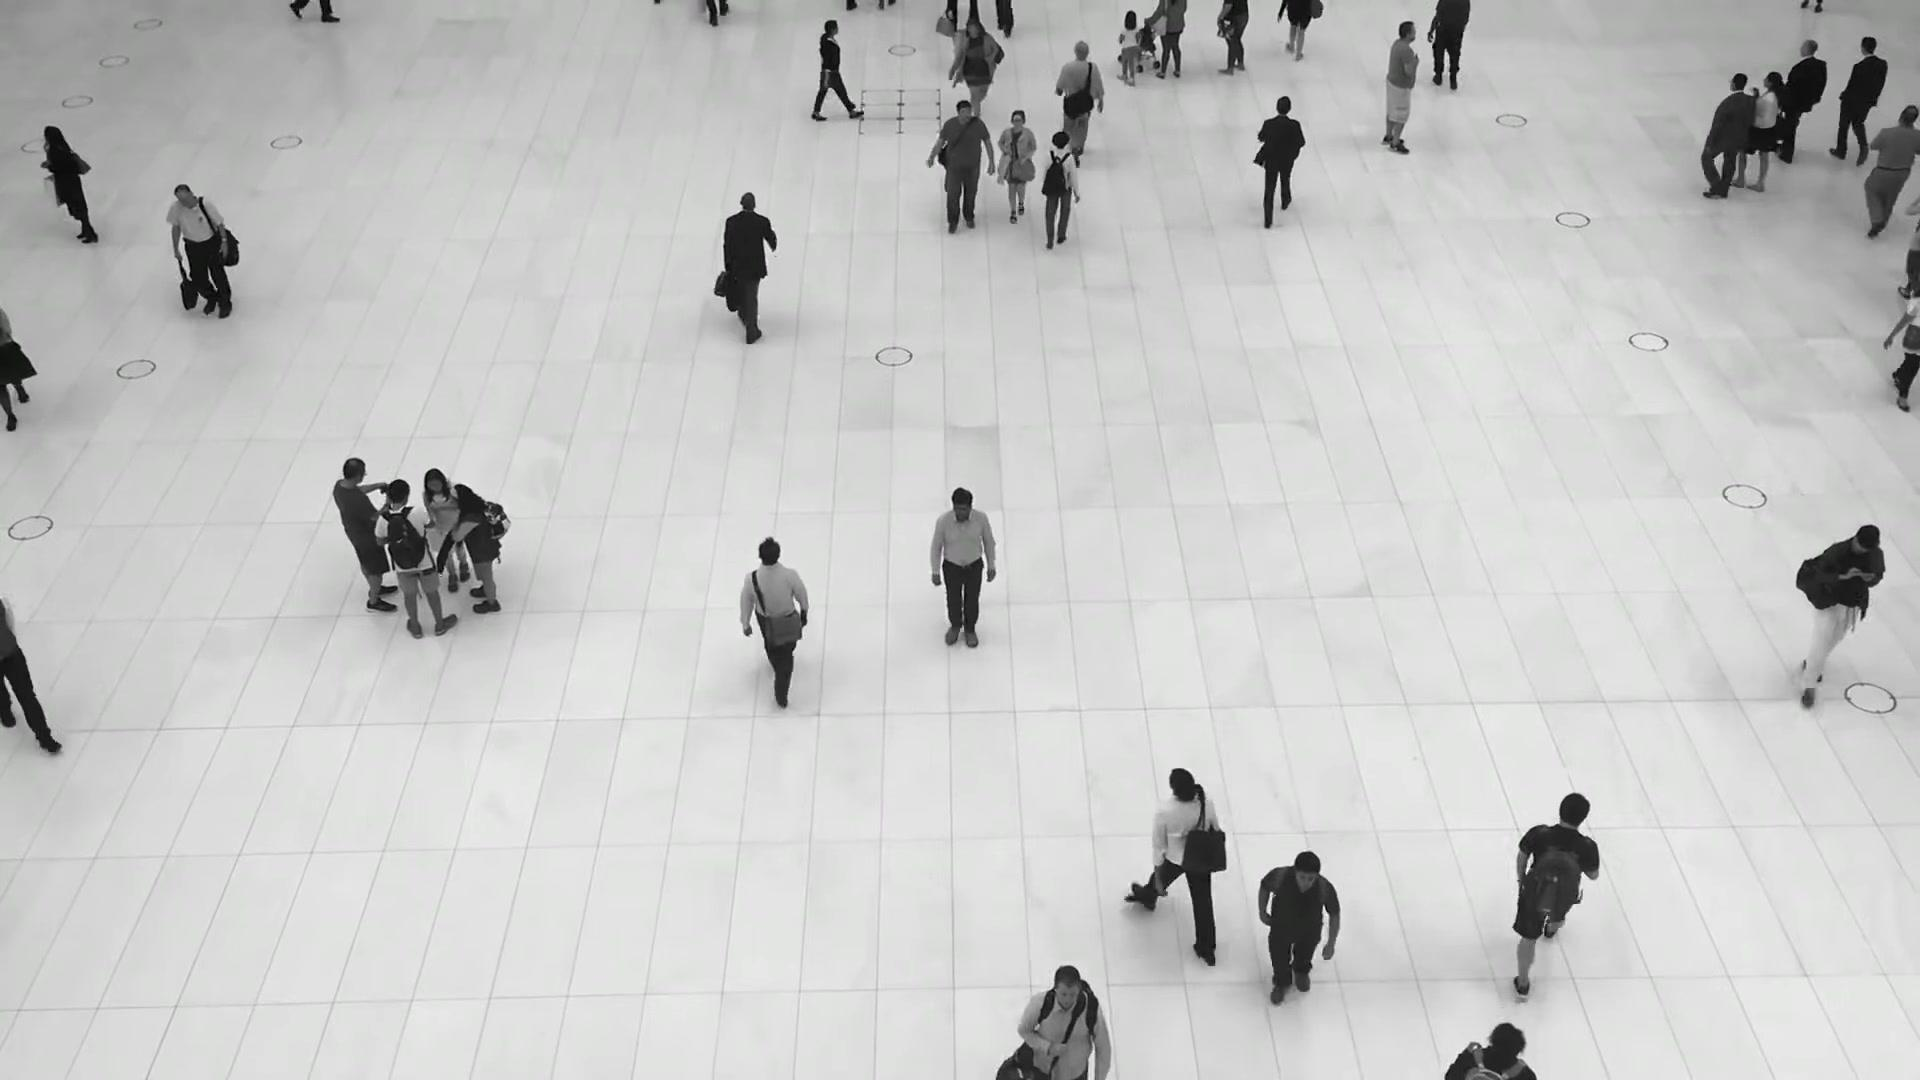person: (1510, 789, 1602, 984), (1791, 523, 1885, 699), (1143, 763, 1225, 949), (376, 477, 460, 635), (1257, 849, 1341, 1005), (737, 537, 812, 709), (926, 486, 997, 663), (1015, 967, 1111, 1080), (333, 457, 399, 610), (164, 185, 233, 326), (929, 99, 994, 235), (720, 191, 779, 342), (1689, 76, 1756, 206), (1827, 37, 1889, 171), (1860, 104, 1920, 240), (1252, 93, 1307, 225), (41, 124, 99, 244), (449, 483, 501, 615), (1052, 41, 1104, 170), (421, 468, 469, 593), (1736, 71, 1784, 195), (1782, 38, 1827, 162), (1380, 19, 1420, 154), (1037, 133, 1078, 258), (951, 17, 998, 117), (997, 110, 1037, 228), (815, 17, 856, 121), (1426, 0, 1472, 90), (1115, 10, 1141, 85)
